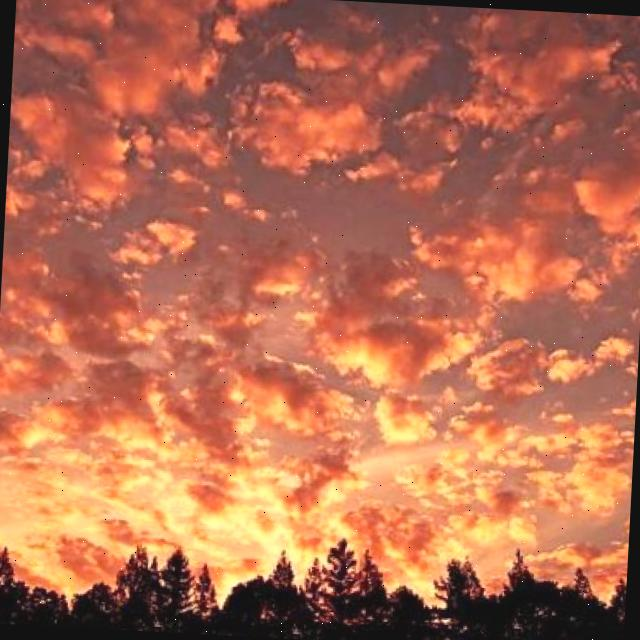Cc: (1, 1, 640, 525)
